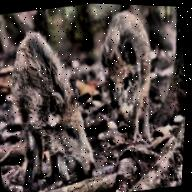boar: (0, 17, 115, 192), (85, 3, 169, 150)
